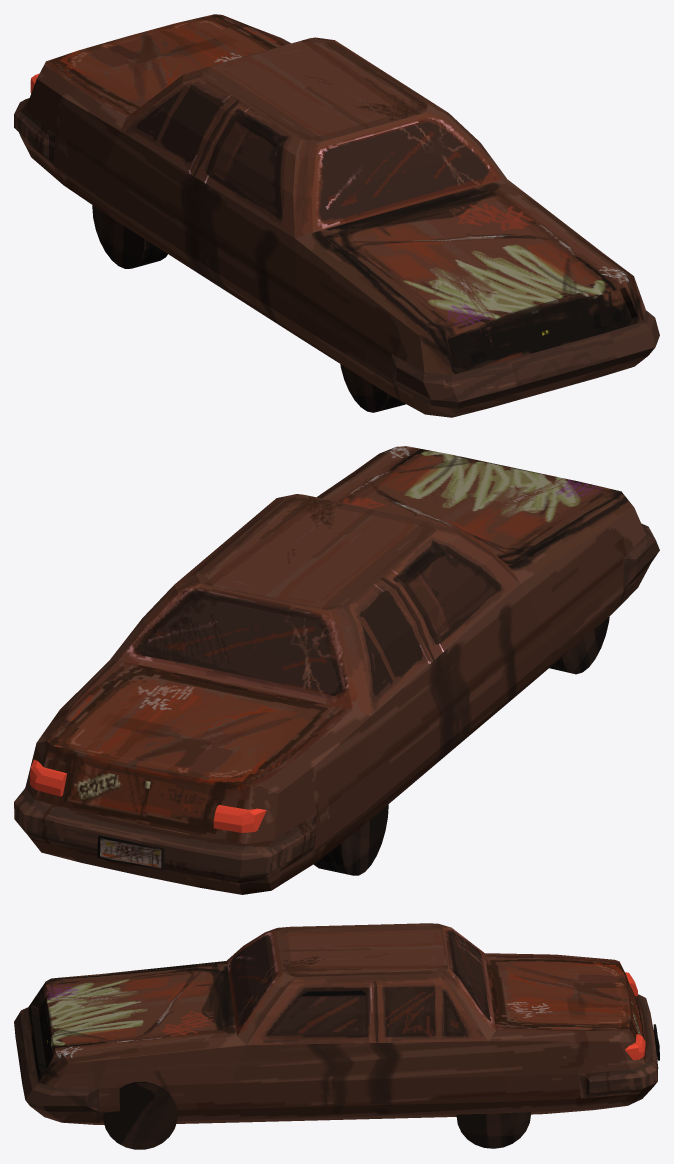
File: SM_carwithtails.fbx
3 renders of one model, top to bottom at view 1: azimuth 30°, elevation 25°; view 2: azimuth 150°, elevation 25°; view 3: azimuth 270°, elevation 25°, orthographic. The views are drawn at different scales.
Parts seen in each view (by area): view 1: SM_car1; view 2: SM_car1, SM_tailights; view 3: SM_car1, SM_tailights.
Boxes of the visible parts, x1,y1,x2,y2 form: SM_car1: (14, 14, 659, 417); SM_car1: (14, 446, 659, 894); SM_tailights: (30, 759, 266, 832); SM_car1: (14, 923, 659, 1149); SM_tailights: (625, 972, 645, 1060).
Bounding box in the file's own units: 192 × 134 × 496.
